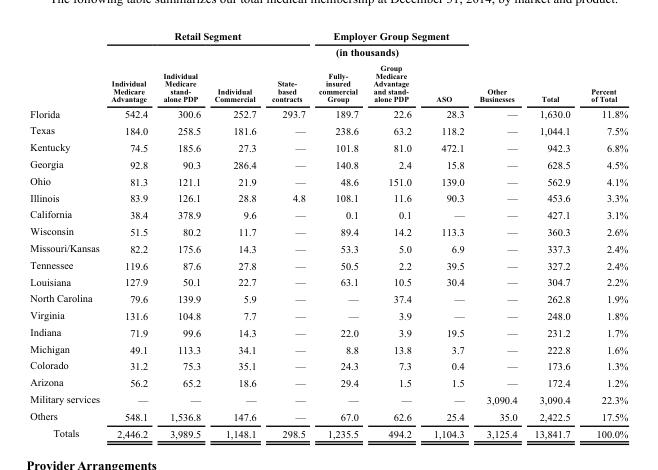table: (29, 29, 627, 438)
table column: (29, 29, 104, 438), (206, 29, 263, 438), (365, 29, 421, 438), (311, 29, 365, 438), (471, 29, 525, 438), (525, 29, 579, 438), (154, 29, 206, 438), (104, 29, 154, 438), (421, 29, 471, 438), (263, 29, 311, 438), (579, 29, 627, 438)
table column header: (29, 29, 627, 105)
table row: (29, 60, 627, 105), (29, 43, 627, 60), (29, 121, 627, 138), (29, 138, 627, 155), (29, 155, 627, 172), (29, 172, 627, 189), (29, 205, 627, 222), (29, 222, 627, 239), (29, 239, 627, 256), (29, 256, 627, 273), (29, 289, 627, 306), (29, 306, 627, 323), (29, 323, 627, 340), (29, 340, 627, 357), (29, 373, 627, 390), (29, 390, 627, 407), (29, 407, 627, 424), (29, 105, 627, 121), (29, 189, 627, 205), (29, 273, 627, 289), (29, 357, 627, 373), (29, 29, 627, 43), (29, 424, 627, 438)
table spanning cell: (104, 43, 627, 60), (104, 29, 311, 43), (311, 29, 471, 43)
